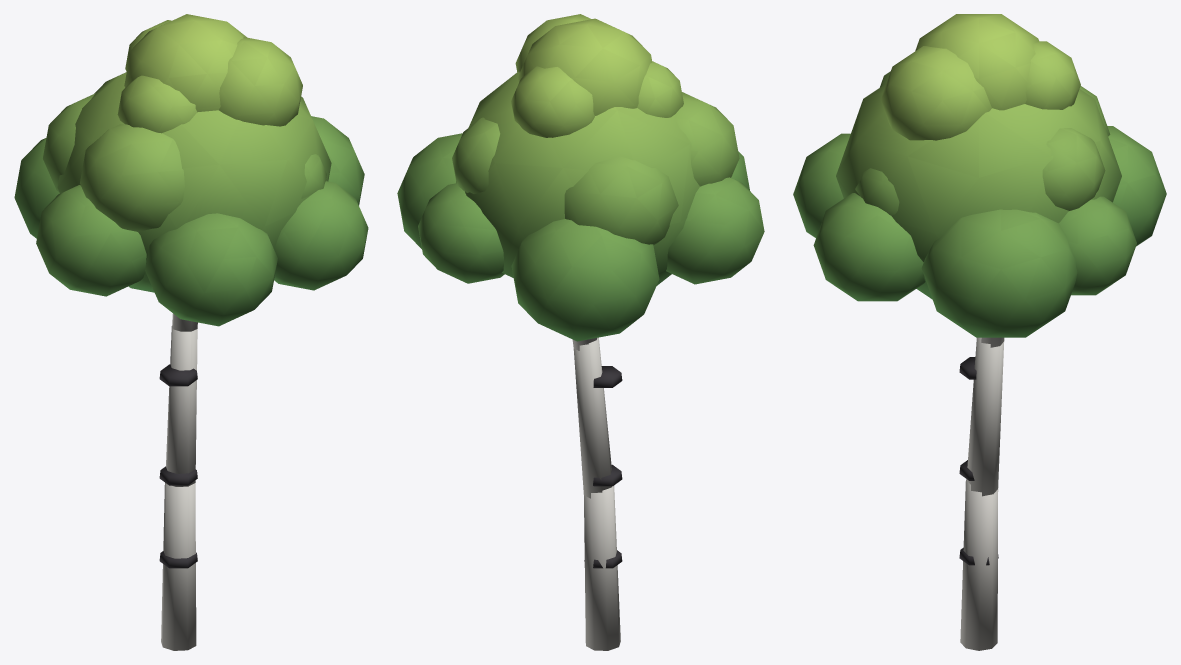
The model's file is tree_birch.glb.
The picture shows the model from 3 angles, left to right: view 1: azimuth 30°, elevation 25°; view 2: azimuth 150°, elevation 25°; view 3: azimuth 270°, elevation 25°; orthographic projection. The views are drawn at different scales.
Visible parts, largest first — view 1: Tree; view 2: Tree; view 3: Tree.
Boxes of the visible parts, box(x1,y1,x2,y2) form: Tree: box(14, 14, 368, 650); Tree: box(397, 14, 764, 650); Tree: box(793, 14, 1166, 650).
Bounding box in the file's own units: 2.07 × 3.74 × 2.
